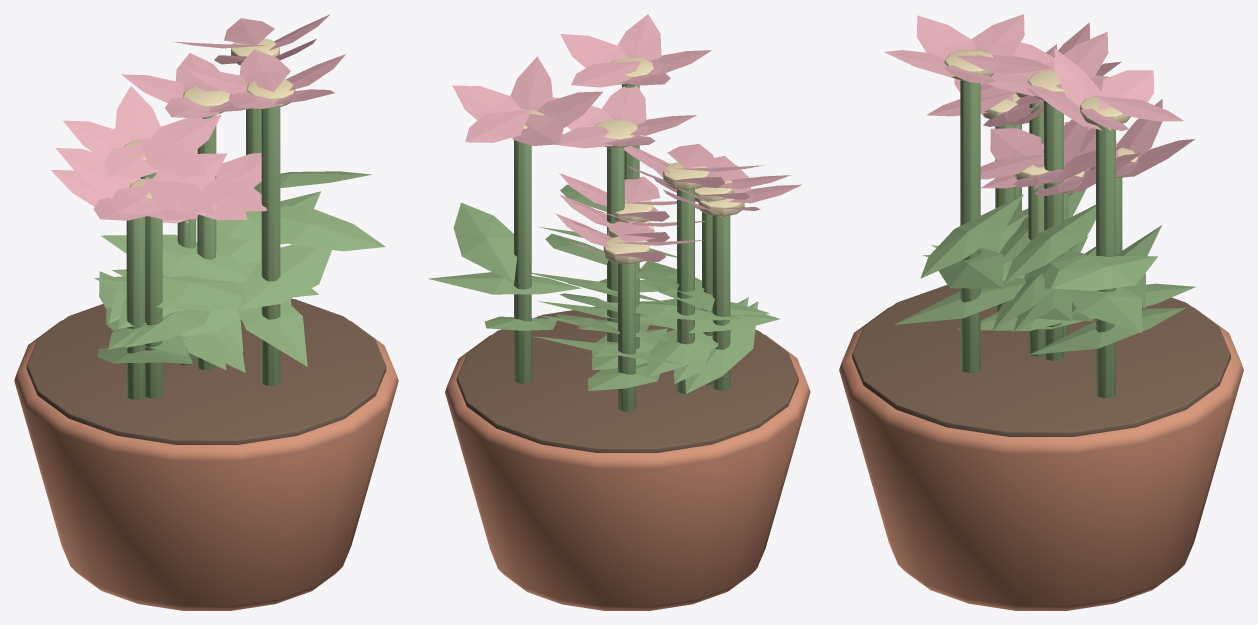
The model's file is tulip-planter.glb.
3 renders of one model, left to right at view 1: azimuth 30°, elevation 25°; view 2: azimuth 150°, elevation 25°; view 3: azimuth 270°, elevation 25°, orthographic. The views are drawn at different scales.
Parts seen in each view (by area): view 1: tulip-planter; view 2: tulip-planter; view 3: tulip-planter.
Boxes of the visible parts, bbox=[...] form: tulip-planter: bbox=[14, 14, 398, 610]; tulip-planter: bbox=[428, 14, 810, 610]; tulip-planter: bbox=[839, 14, 1243, 610].
Bounding box in the file's own units: 0.45 × 0.65 × 0.45.
Materials: 5 (1 with a texture image).
